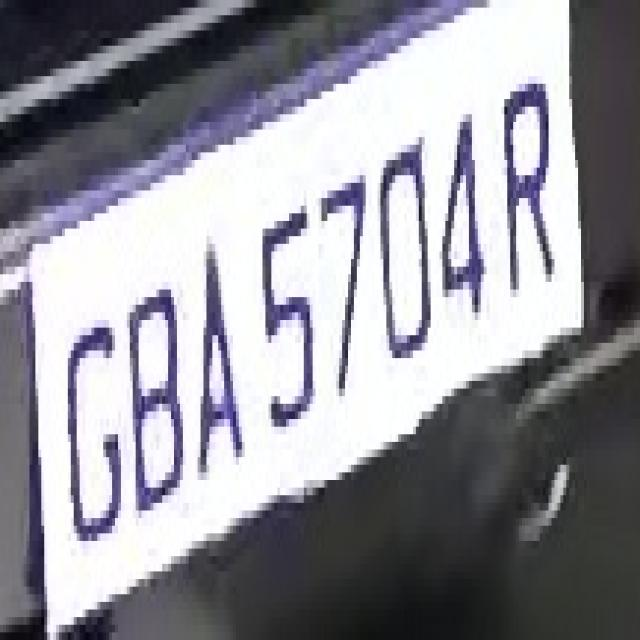0: (368, 122, 434, 373)
4: (430, 91, 492, 328)
5: (250, 183, 316, 449)
7: (310, 152, 368, 442)
A: (186, 214, 245, 496)
B: (121, 266, 189, 526)
G: (56, 297, 124, 564)
R: (498, 76, 564, 297)
